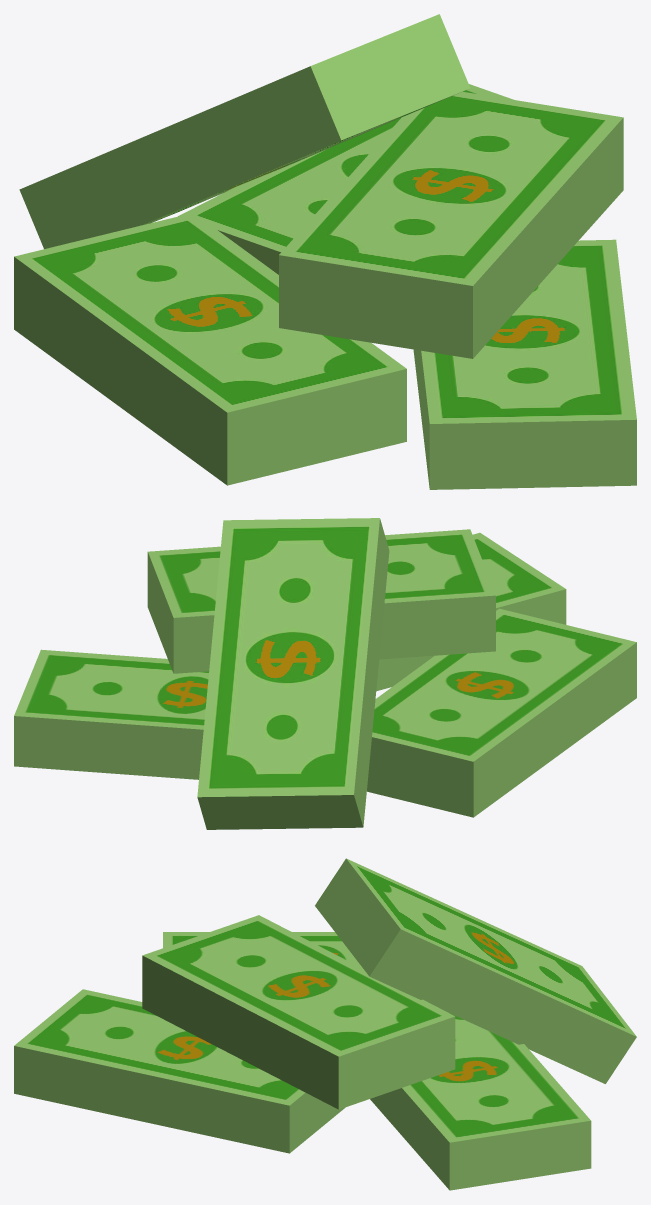
The model's file is note.glb.
3 renders of one model, top to bottom at view 1: azimuth 30°, elevation 25°; view 2: azimuth 150°, elevation 25°; view 3: azimuth 270°, elevation 25°, orthographic. The views are drawn at different scales.
Parts seen in each view (by area): view 1: Cube.001; view 2: Cube.001; view 3: Cube.001.
Part boxes in pixels (x1,y1,x2,y2): Cube.001: [14, 14, 636, 489]; Cube.001: [14, 518, 636, 829]; Cube.001: [14, 858, 636, 1190].
Bounding box in the file's own units: 0.2462 × 0.1167 × 0.3149.
Materials: 1 (1 with a texture image).
